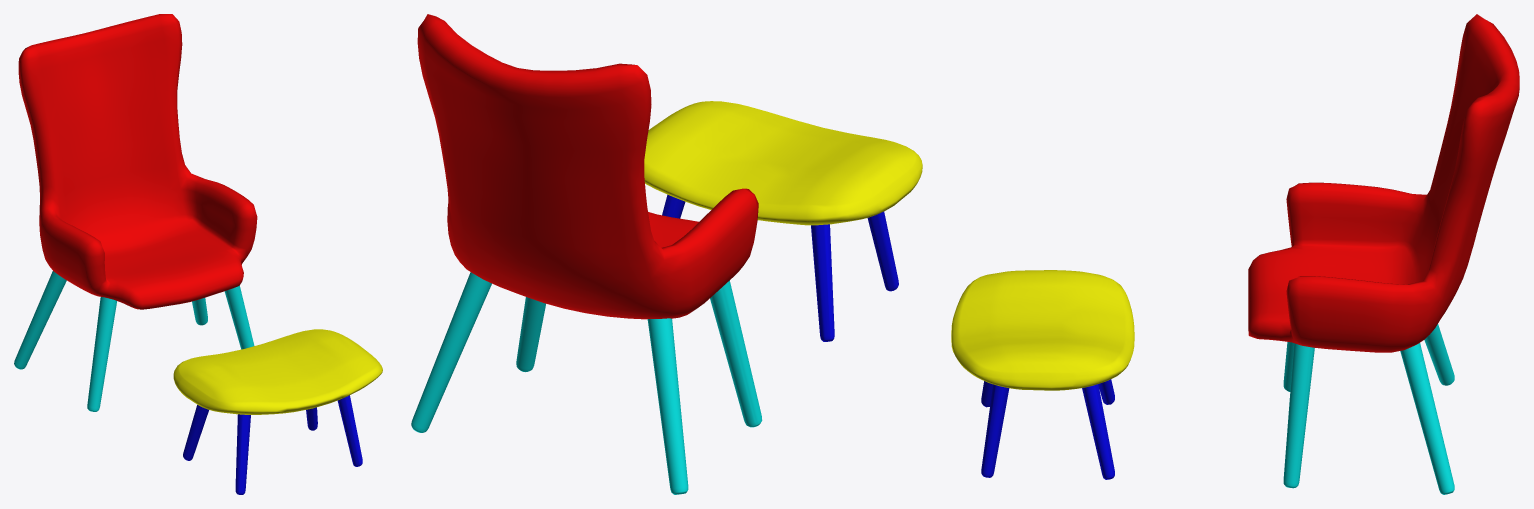
The model's file is OM_3BHK_DM_Living_n_Dining_Chair.fbx.
3 renders of one model, left to right at view 1: azimuth 30°, elevation 25°; view 2: azimuth 150°, elevation 25°; view 3: azimuth 270°, elevation 25°, orthographic. The views are drawn at different scales.
Visible parts, largest first — view 1: OM_3BHK_DM_Living_n_Dining_Chair_Main_Chair, OM_3BHK_DM_Living_n_Dining_Chair_Footrest, OM_3BHK_DM_Living_n_Dining_Chair_Main_chair_lrgs, OM_3BHK_DM_Living_n_Dining_Chair_Footrest_Legs; view 2: OM_3BHK_DM_Living_n_Dining_Chair_Main_Chair, OM_3BHK_DM_Living_n_Dining_Chair_Footrest, OM_3BHK_DM_Living_n_Dining_Chair_Main_chair_lrgs, OM_3BHK_DM_Living_n_Dining_Chair_Footrest_Legs; view 3: OM_3BHK_DM_Living_n_Dining_Chair_Main_Chair, OM_3BHK_DM_Living_n_Dining_Chair_Footrest, OM_3BHK_DM_Living_n_Dining_Chair_Main_chair_lrgs, OM_3BHK_DM_Living_n_Dining_Chair_Footrest_Legs.
Boxes of the visible parts, box(x1,y1,x2,y2) form: OM_3BHK_DM_Living_n_Dining_Chair_Main_Chair: box(18, 14, 257, 309); OM_3BHK_DM_Living_n_Dining_Chair_Footrest: box(173, 329, 382, 414); OM_3BHK_DM_Living_n_Dining_Chair_Main_chair_lrgs: box(14, 271, 254, 411); OM_3BHK_DM_Living_n_Dining_Chair_Footrest_Legs: box(183, 395, 362, 494); OM_3BHK_DM_Living_n_Dining_Chair_Main_Chair: box(417, 14, 758, 319); OM_3BHK_DM_Living_n_Dining_Chair_Footrest: box(644, 101, 922, 225); OM_3BHK_DM_Living_n_Dining_Chair_Main_chair_lrgs: box(411, 272, 762, 494); OM_3BHK_DM_Living_n_Dining_Chair_Footrest_Legs: box(662, 194, 898, 341); OM_3BHK_DM_Living_n_Dining_Chair_Main_Chair: box(1248, 14, 1519, 352); OM_3BHK_DM_Living_n_Dining_Chair_Footrest: box(951, 270, 1134, 390); OM_3BHK_DM_Living_n_Dining_Chair_Main_chair_lrgs: box(1283, 324, 1454, 494); OM_3BHK_DM_Living_n_Dining_Chair_Footrest_Legs: box(981, 379, 1114, 479).
Bounding box in the file's own units: 4.96 × 7.54 × 10.2.
